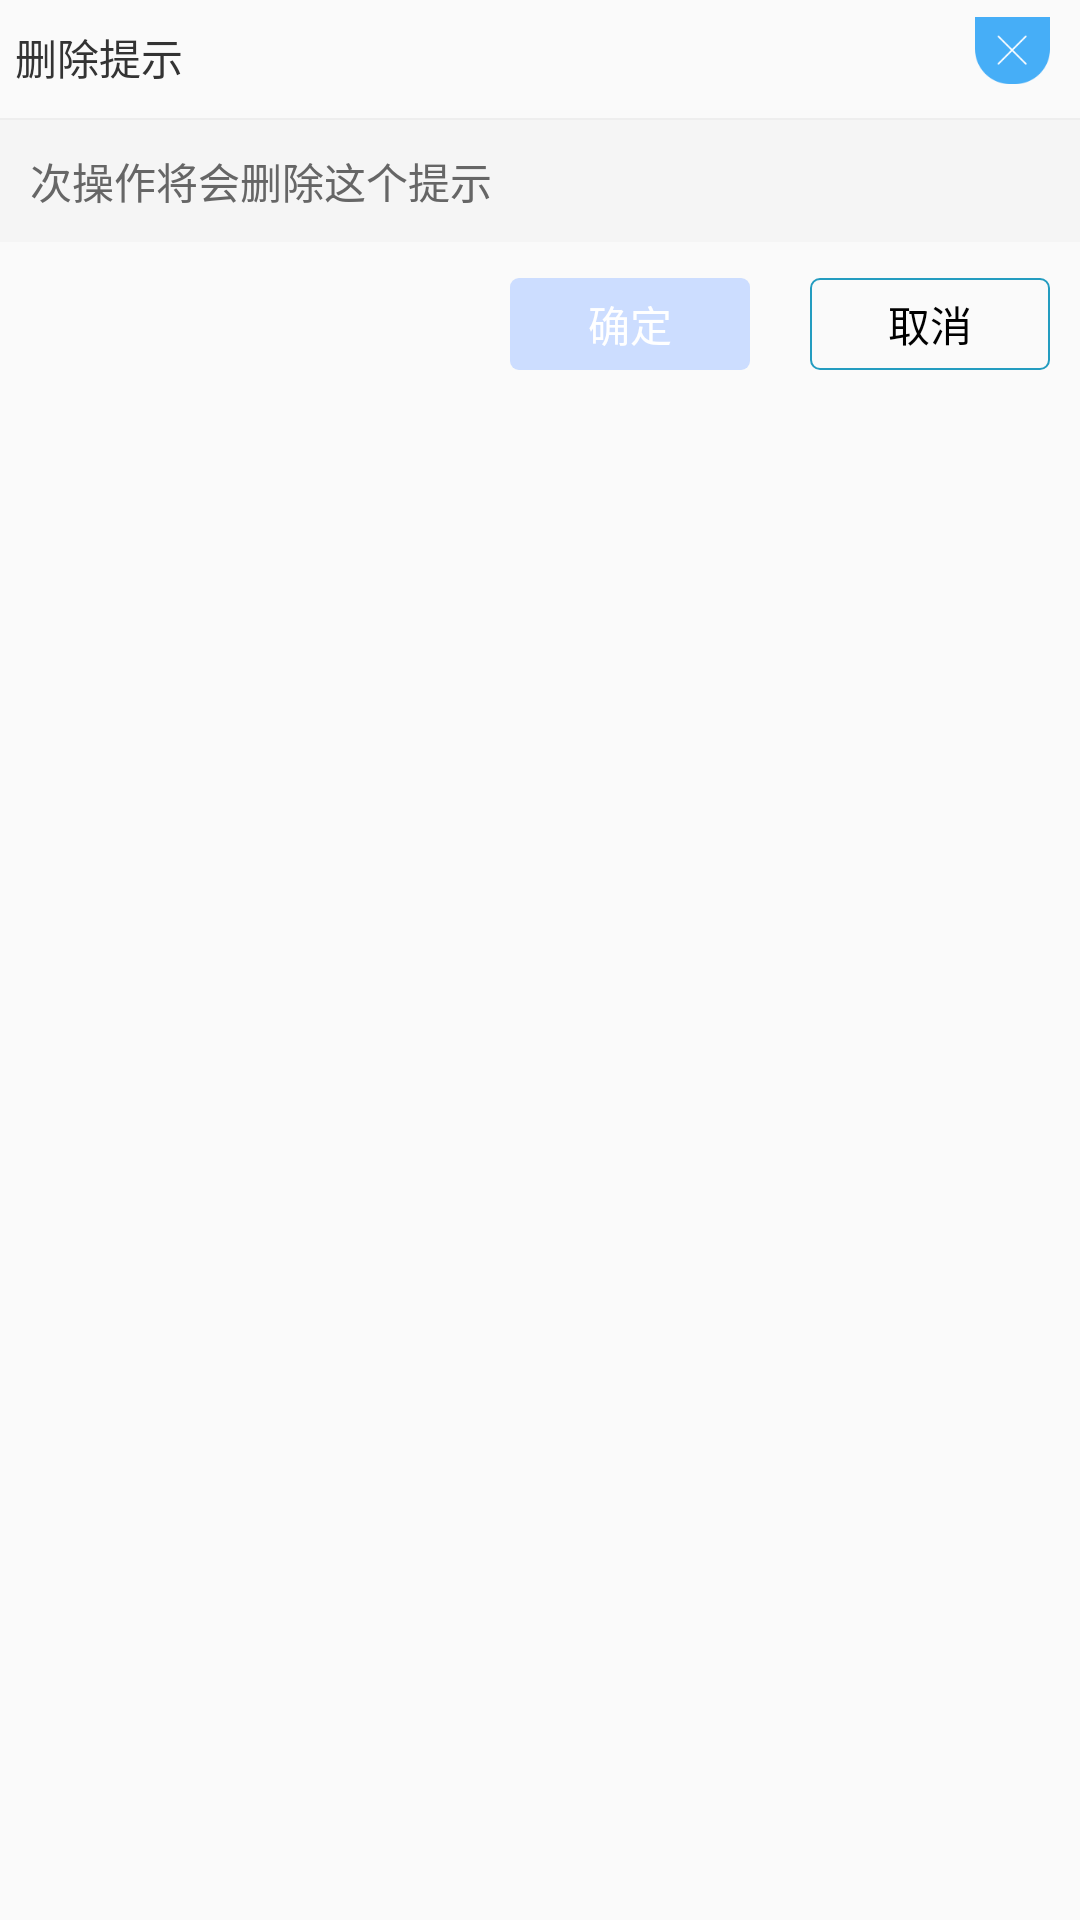

Where to tap for icons on this 1080 × 1920 app screen, as [x,y]:
cancel: [1012,50]
